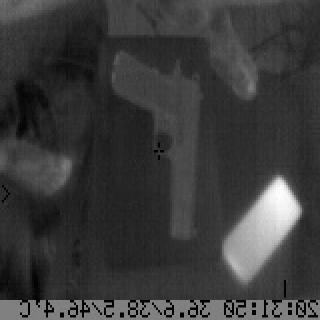Gun: (108, 48, 206, 242)
